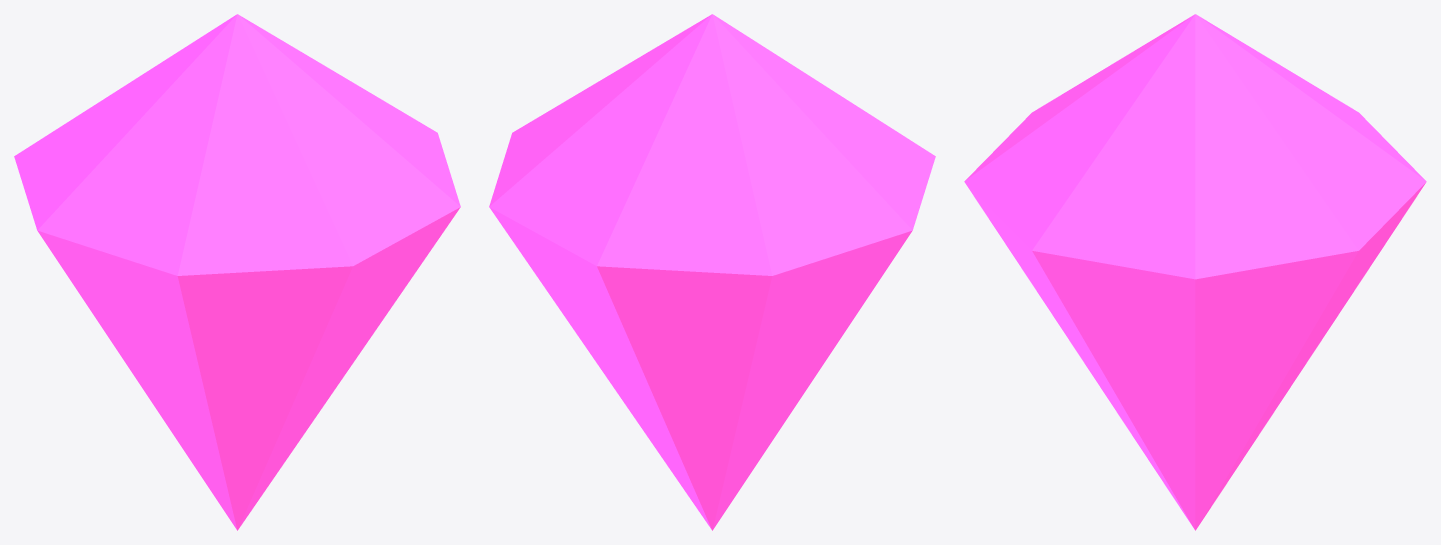
File: gem.glb
3 renders of one model, left to right at view 1: azimuth 30°, elevation 25°; view 2: azimuth 150°, elevation 25°; view 3: azimuth 270°, elevation 25°, orthographic.
Parts seen in each view (by area): view 1: gem; view 2: gem; view 3: gem.
Boxes of the visible parts, <box> form: gem: <box>14,14,460,530</box>; gem: <box>489,14,935,530</box>; gem: <box>964,14,1426,530</box>.
Size of the model in its own units: 0.3 by 0.37 by 0.3.
